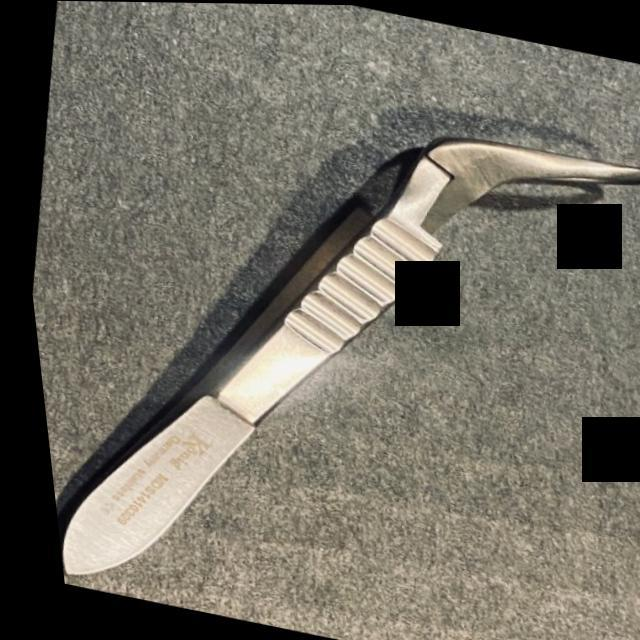Jones Towel Clamp: (4, 44, 640, 640)
